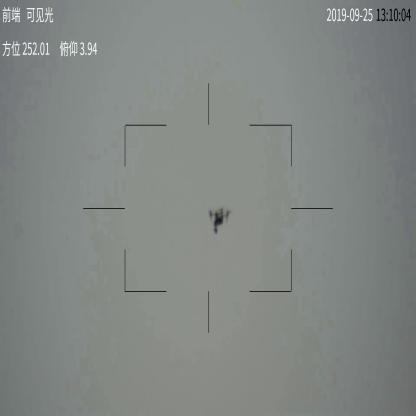uav: (209, 204, 232, 234)
